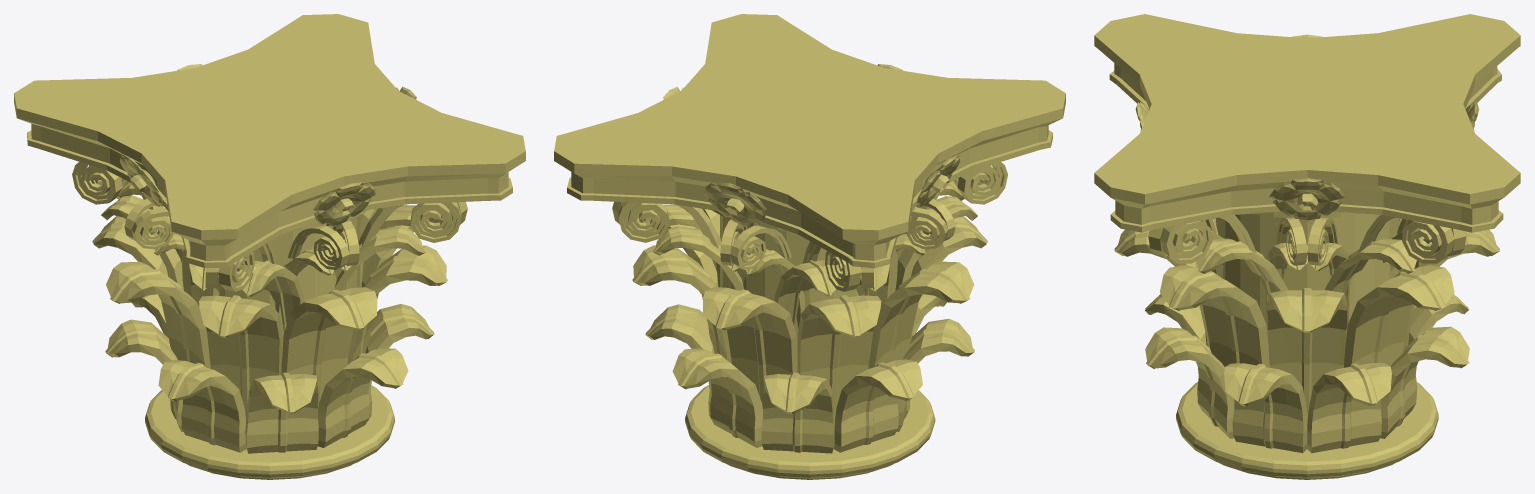
3 views of the same model, side by side, from view 1: azimuth 30°, elevation 25°; view 2: azimuth 150°, elevation 25°; view 3: azimuth 270°, elevation 25° (orthographic). The views are drawn at different scales.
Visible parts, largest first — view 1: pasted__pasted__Node_1147; view 2: pasted__pasted__Node_1147; view 3: pasted__pasted__Node_1147.
Boxes of the visible parts, x1,y1,x2,y2 form: pasted__pasted__Node_1147: (14, 14, 525, 479); pasted__pasted__Node_1147: (554, 14, 1065, 479); pasted__pasted__Node_1147: (1094, 14, 1520, 479).
Bounding box in the file's own units: 76.62 × 76.62 × 65.2.
